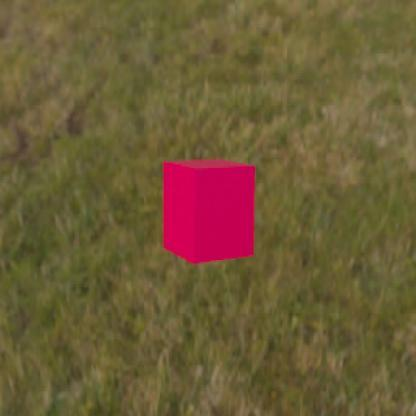cube: (163, 158, 255, 263)
